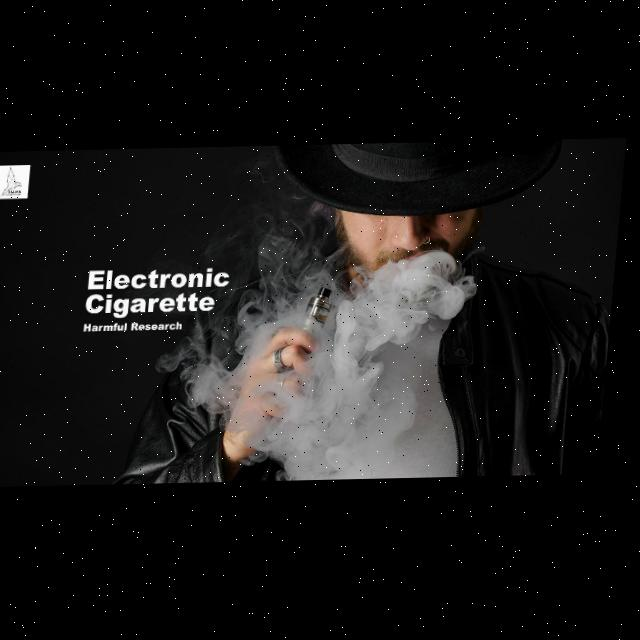vape: (308, 288, 341, 332)
